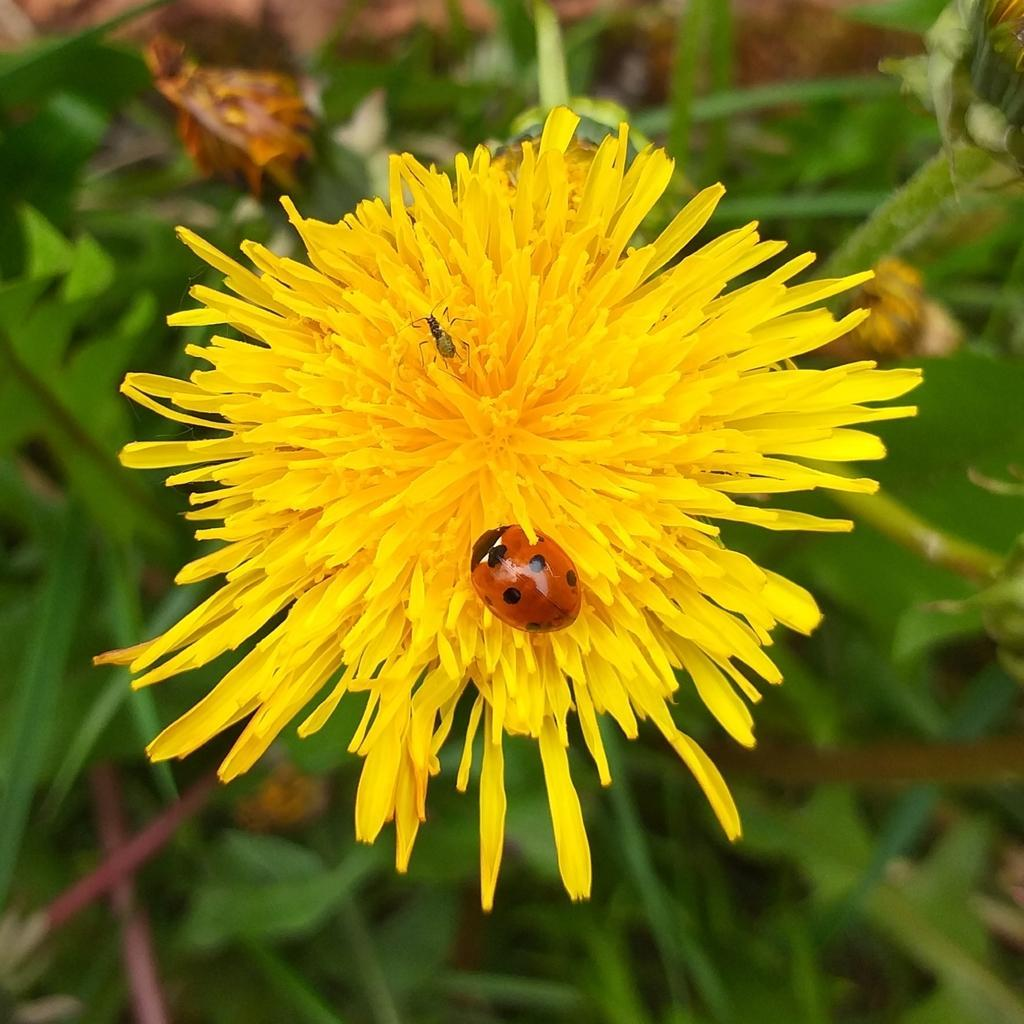ladybug: (466, 519, 586, 639)
